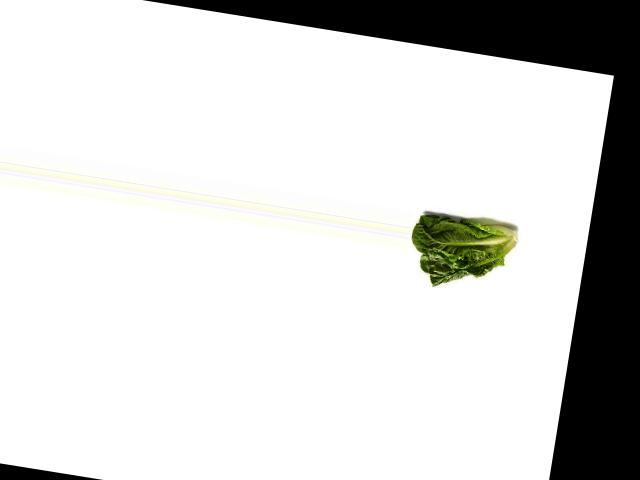lettuce: (404, 194, 526, 299)
